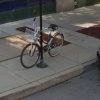Bicycle: (16, 18, 76, 65)
